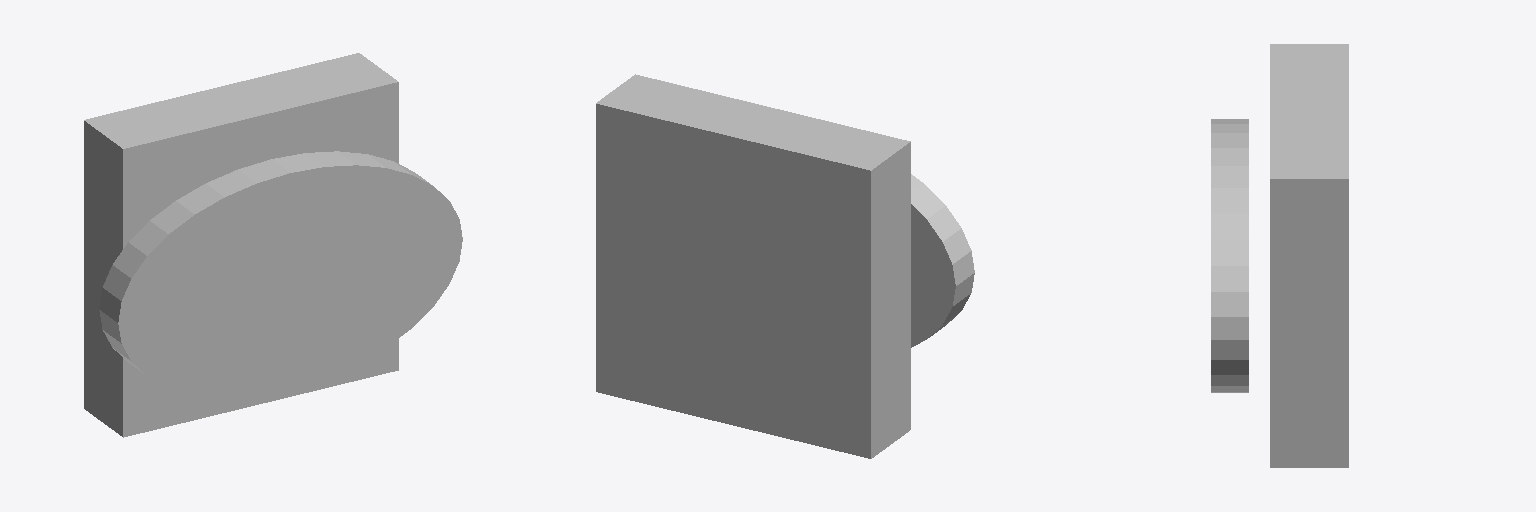
The model's file is SemiTractorFifthwheel.obj.
3 renders of one model, left to right at view 1: azimuth 30°, elevation 25°; view 2: azimuth 150°, elevation 25°; view 3: azimuth 270°, elevation 25°, orthographic.
Visible parts, largest first — view 1: Cylinder, Cube_Cube.001; view 2: Cube_Cube.001, Cylinder; view 3: Cube_Cube.001, Cylinder.
Boxes of the visible parts, x1,y1,x2,y2 form: Cylinder: [99, 151, 462, 396]; Cube_Cube.001: [84, 53, 398, 437]; Cube_Cube.001: [596, 74, 910, 458]; Cylinder: [911, 174, 974, 347]; Cube_Cube.001: [1270, 44, 1348, 467]; Cylinder: [1211, 119, 1248, 392].
Size of the model in its own units: 1 by 0.8 by 0.348.